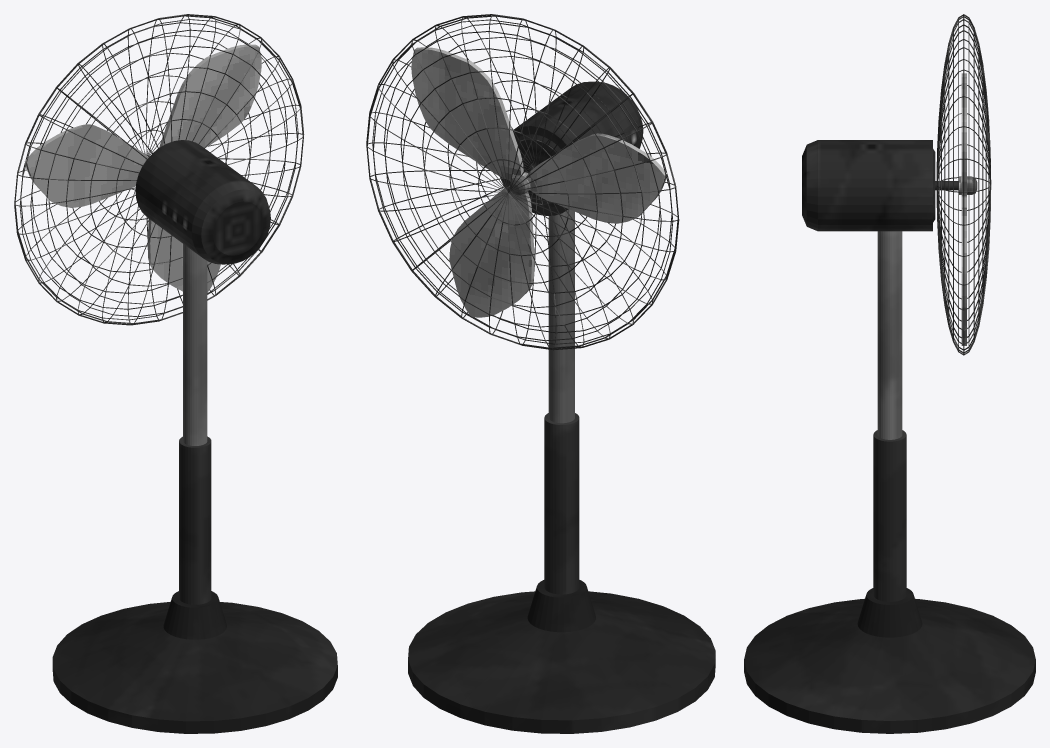
Rendered from Fan Stand.obj.
3 renders of one model, left to right at view 1: azimuth 30°, elevation 25°; view 2: azimuth 150°, elevation 25°; view 3: azimuth 270°, elevation 25°, orthographic. The views are drawn at different scales.
Parts seen in each view (by area): view 1: Fan_Stand_(Base)_Material.006, Fan_Stand_(Base)_Material.007, Fan_Stand_(Base)_Material.008; view 2: Fan_Stand_(Base)_Material.006, Fan_Stand_(Base)_Material.008, Fan_Stand_(Base)_Material.007; view 3: Fan_Stand_(Base)_Material.006, Fan_Stand_(Base)_Material.007, Fan_Stand_(Base)_Material.008.
Part boxes in pixels (box(x1,y1,x2,y2)): Fan_Stand_(Base)_Material.006: box(52, 140, 337, 733); Fan_Stand_(Base)_Material.007: box(14, 14, 304, 325); Fan_Stand_(Base)_Material.008: box(24, 44, 261, 292); Fan_Stand_(Base)_Material.006: box(408, 81, 715, 733); Fan_Stand_(Base)_Material.008: box(411, 47, 667, 317); Fan_Stand_(Base)_Material.007: box(366, 14, 679, 350); Fan_Stand_(Base)_Material.006: box(744, 140, 1035, 733); Fan_Stand_(Base)_Material.007: box(936, 14, 991, 355); Fan_Stand_(Base)_Material.008: box(959, 73, 977, 345).
Bounding box in the file's own units: 11.85 × 24.57 × 10.11.
